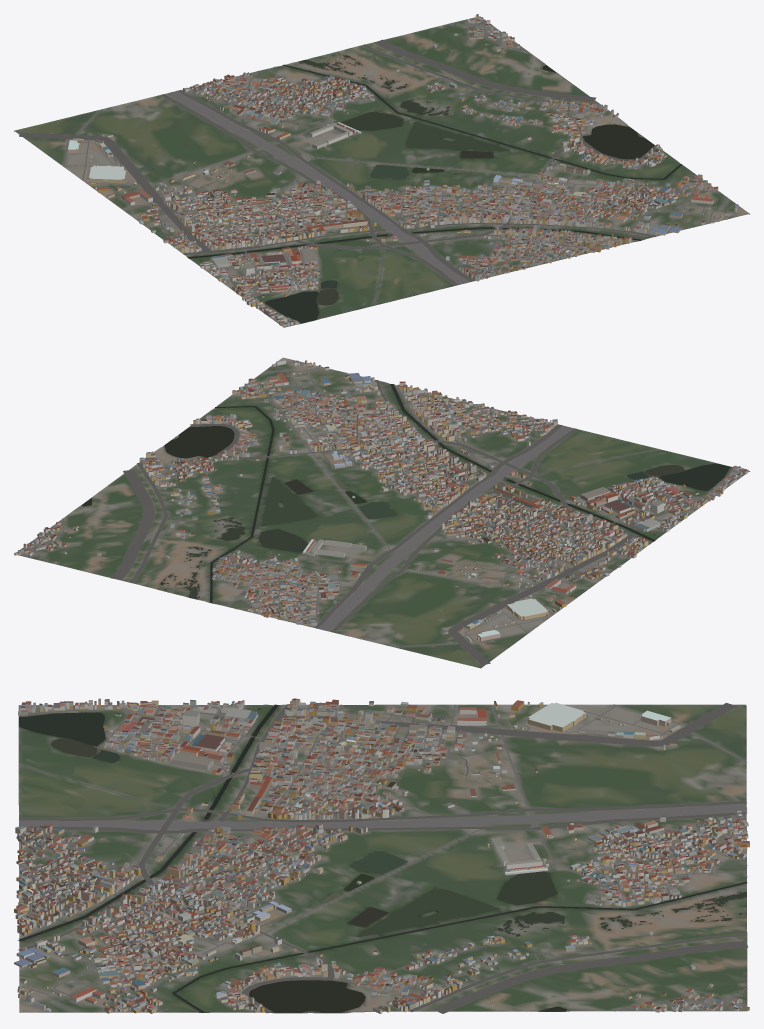
3 views of the same model, one above another, from view 1: azimuth 30°, elevation 25°; view 2: azimuth 150°, elevation 25°; view 3: azimuth 270°, elevation 25° (orthographic). The views are drawn at different scales.
Parts seen in each view (by area): view 1: ground, buildings, roads, water; view 2: ground, buildings, roads, water; view 3: ground, buildings, roads, water.
Part boxes in pixels (bbox=[...]): ground: bbox=[14, 16, 749, 327]; buildings: bbox=[68, 14, 738, 326]; roads: bbox=[19, 19, 739, 324]; water: bbox=[154, 54, 682, 323]; ground: bbox=[14, 357, 749, 668]; buildings: bbox=[14, 359, 748, 641]; roads: bbox=[21, 367, 731, 665]; water: bbox=[81, 384, 731, 602]; ground: bbox=[18, 704, 747, 1013]; buildings: bbox=[14, 698, 749, 1013]; roads: bbox=[18, 702, 748, 1013]; water: bbox=[18, 704, 747, 1012].
Size of the model in its own units: 1422 by 30.8 by 1417.
